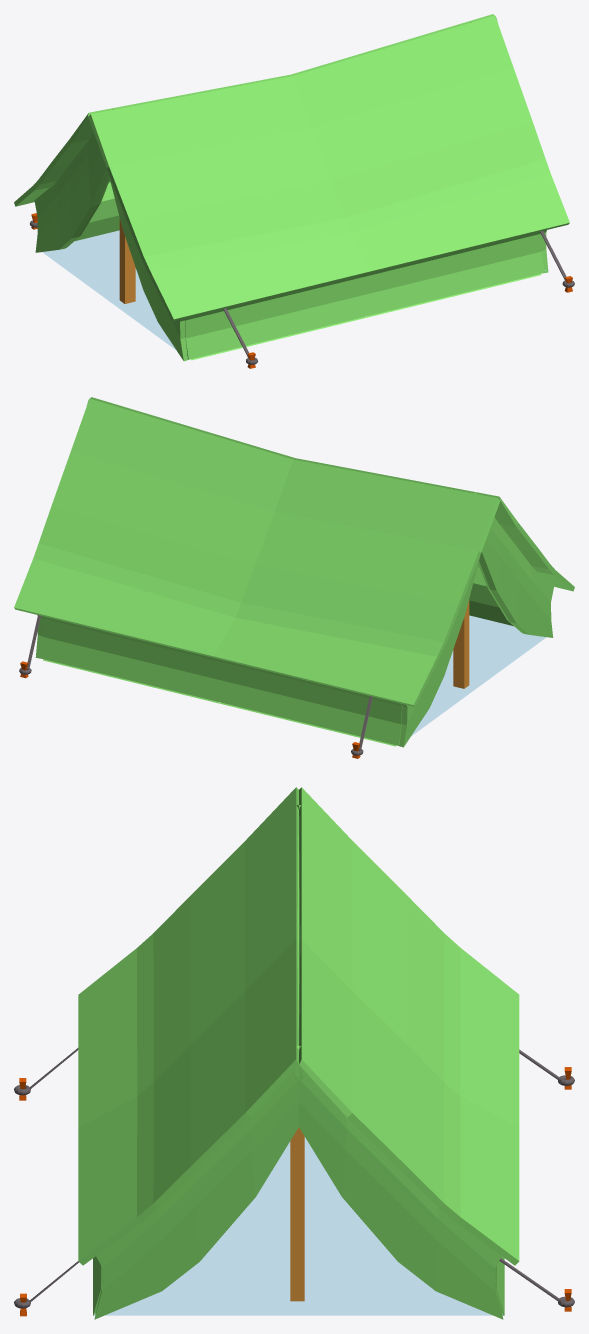
The model's file is Tent.fbx.
3 renders of one model, top to bottom at view 1: azimuth 30°, elevation 25°; view 2: azimuth 150°, elevation 25°; view 3: azimuth 270°, elevation 25°, orthographic. The views are drawn at different scales.
Visible parts, largest first — view 1: Plane, Plane.001, Cube.005, Torus.001; view 2: Plane, Plane.001, Cube.005, Torus.001; view 3: Plane, Plane.001, Cube.005, Torus.001.
Part boxes in pixels (<box>): Plane: <box>14,14,569,361</box>; Plane.001: <box>42,230,546,358</box>; Cube.005: <box>119,218,135,303</box>; Torus.001: <box>30,220,574,364</box>; Plane: <box>14,397,574,747</box>; Plane.001: <box>411,615,546,736</box>; Cube.005: <box>453,599,469,688</box>; Torus.001: <box>19,615,372,755</box>; Plane: <box>78,787,519,1319</box>; Plane.001: <box>94,1137,502,1315</box>; Cube.005: <box>290,1127,304,1301</box>; Torus.001: <box>14,1048,574,1308</box>.
Size of the model in its own units: 525 by 245 by 453.
